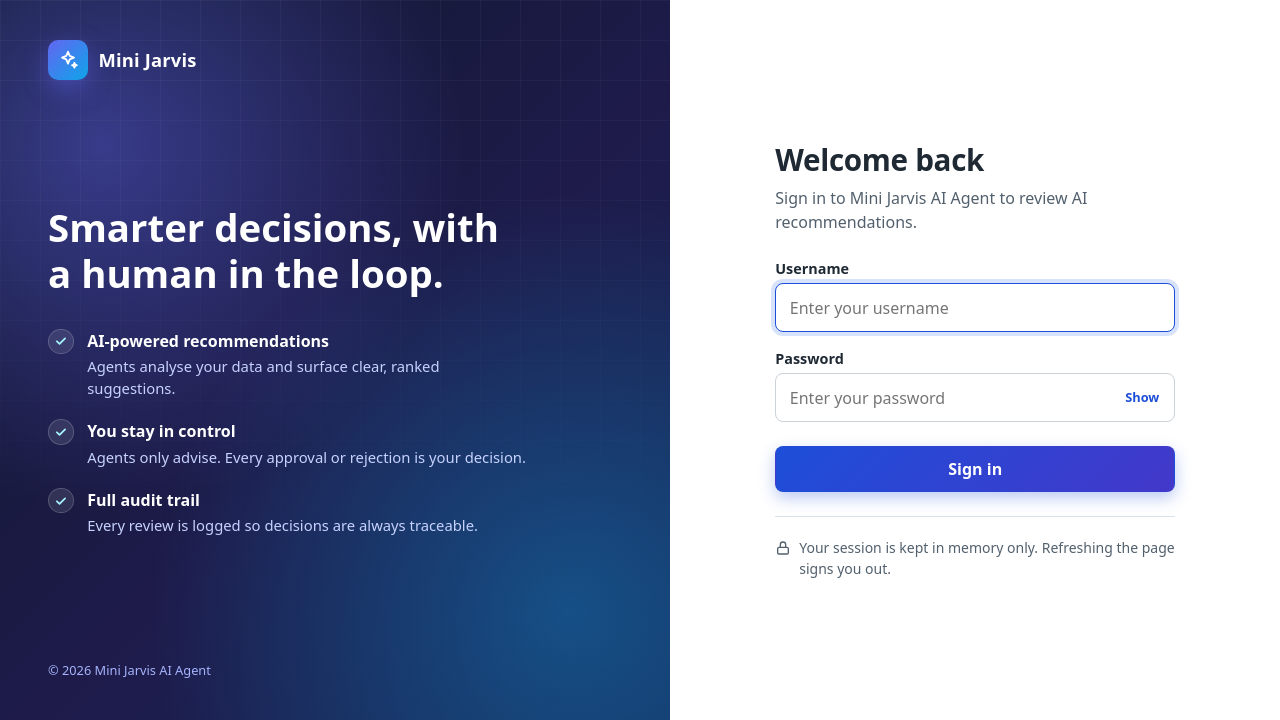
Test case: LoginPage › shows an error banner for wrong credentials and stays on the login page
This screenshot has width=1280, height=720.
Step 1. Type "admin" into the field labelled "Username" → (975, 308), box [775, 283, 1175, 332]
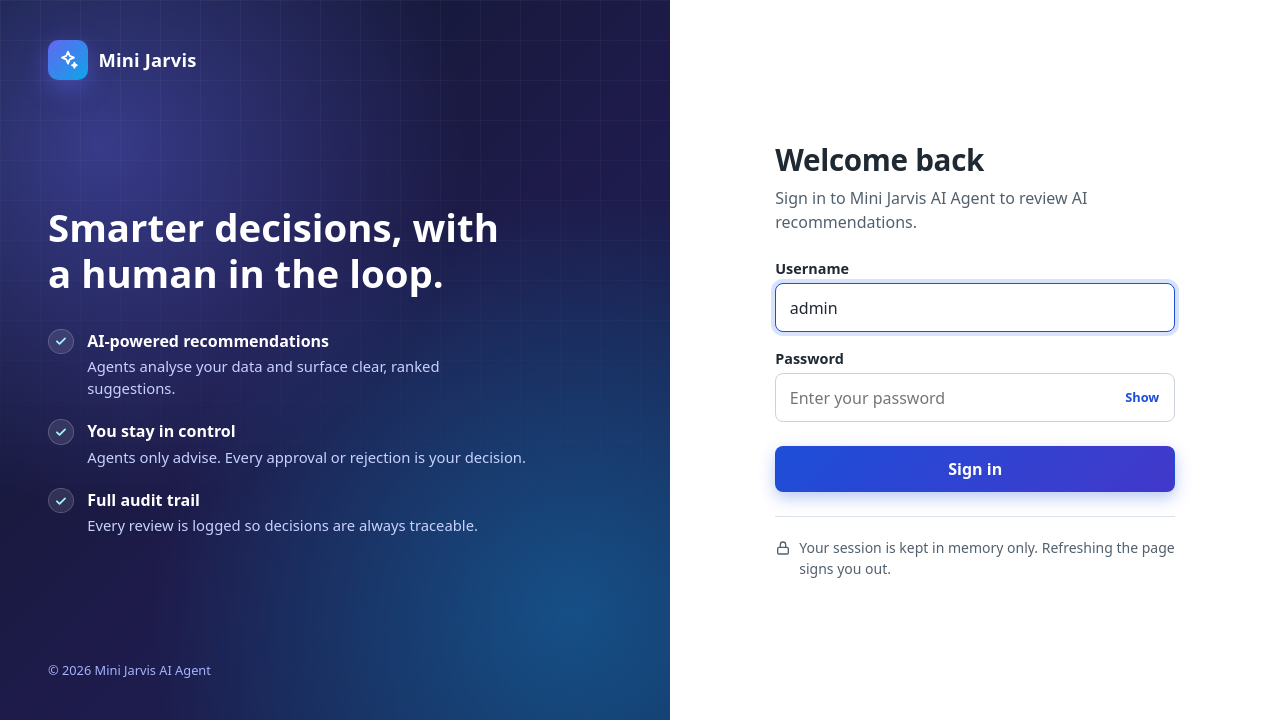
Step 2. Type "wrong" into the password field labelled "Password" → (975, 398), box [775, 373, 1175, 422]
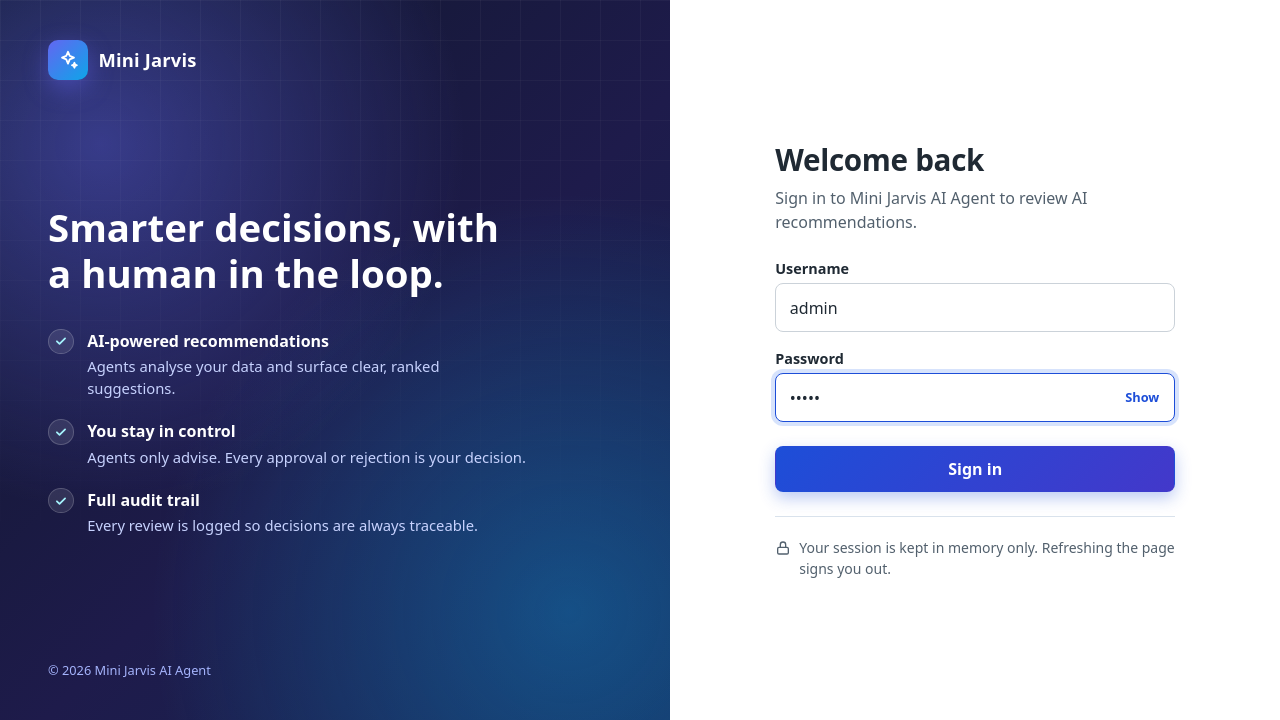
Step 3. Click the button "Sign in" → click(975, 469), box [775, 446, 1175, 492]
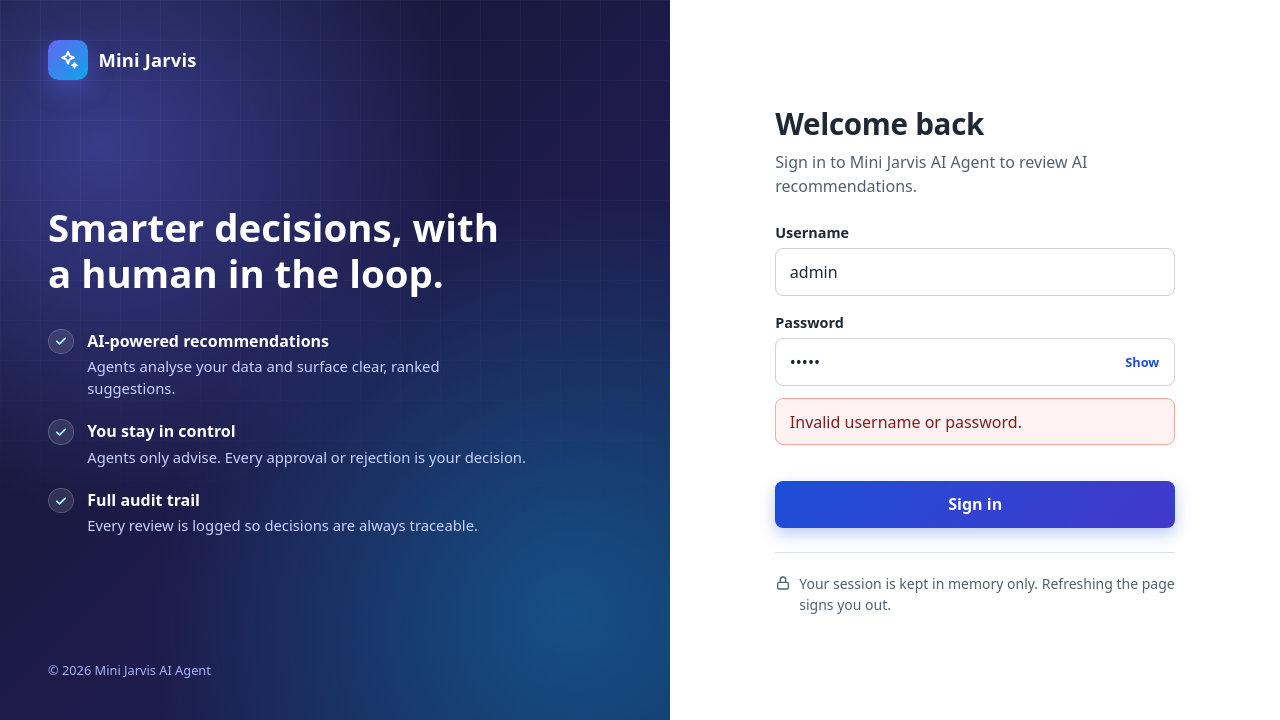
Expected: the button "Sign in" is enabled, [775, 481, 1175, 528]
Expected: the message reads "Invalid username or password.", [790, 411, 1022, 433]
